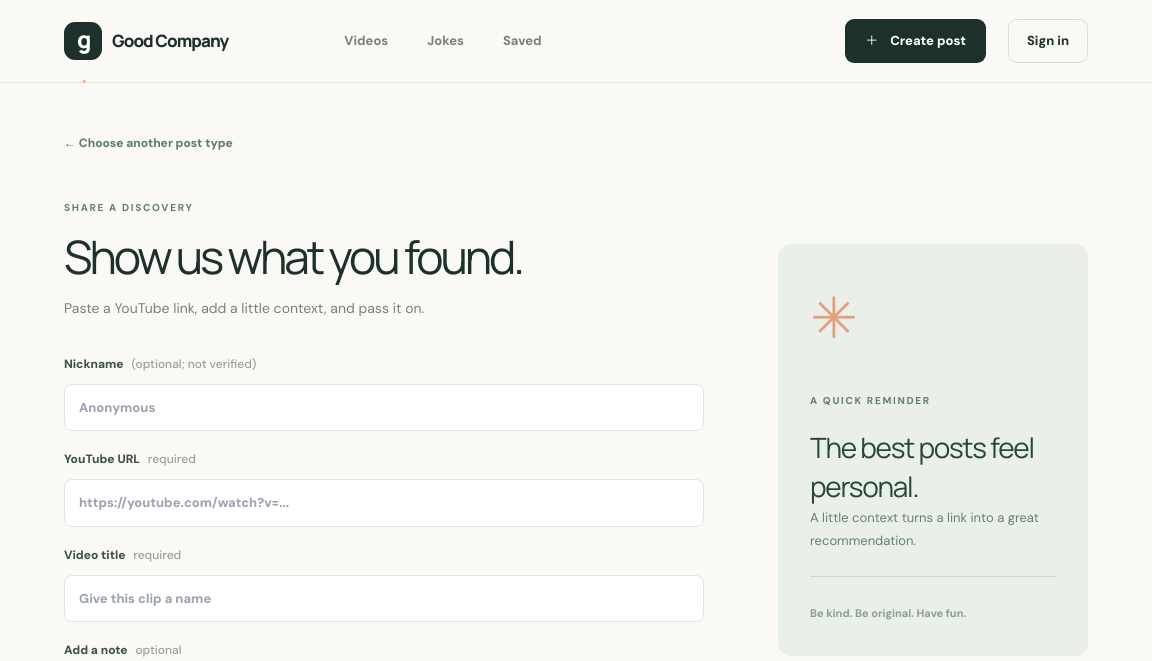
Test: community experience in local demo mode › requires a valid video link before enabling submit
Step 1. Type "https://example.com/not-a-video" into the field with placeholder "https://youtube.com/watch?v=..." → (384, 503), box [64,479,704,527]
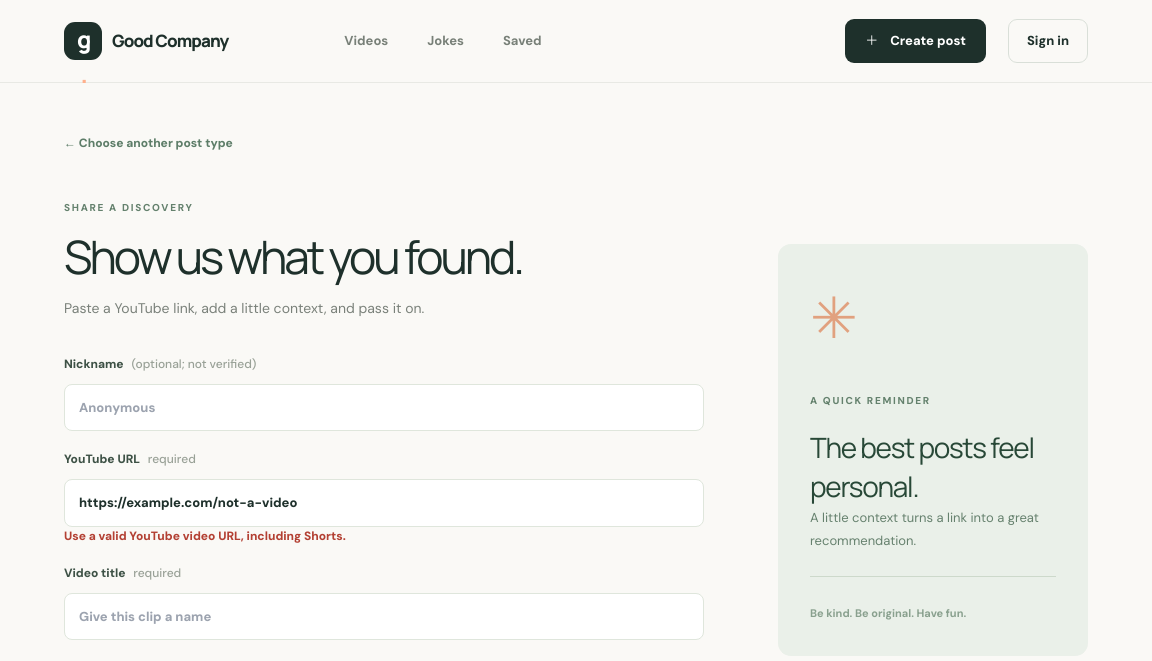
Result: the text "Use a valid YouTube video URL, including Shorts." is shown at [64,528,346,544]
